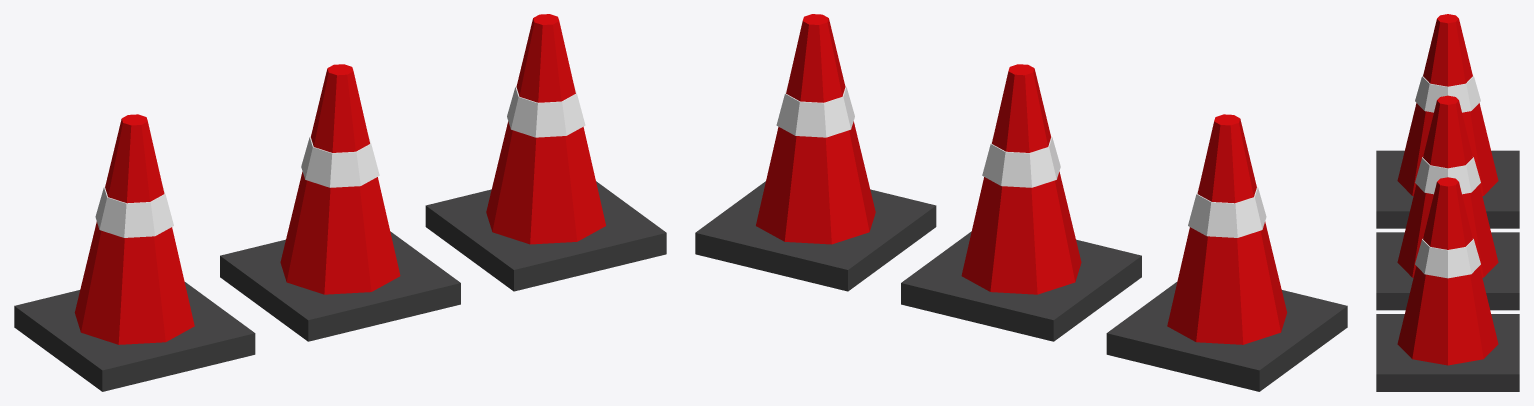
3 views of the same model, side by side, from view 1: azimuth 30°, elevation 25°; view 2: azimuth 150°, elevation 25°; view 3: azimuth 270°, elevation 25° (orthographic). The views are drawn at different scales.
Visible parts, largest first — view 1: Safety cone.001, Safety cone, Safety cone.002, Cone foot.002, Cone foot, Cone foot.001, Cone white band.001, Cone white band.002, Cone white band; view 2: Safety cone.001, Safety cone, Safety cone.002, Cone foot.002, Cone foot, Cone foot.001, Cone white band.001, Cone white band.002, Cone white band; view 3: Safety cone.002, Cone foot.002, Safety cone.001, Safety cone, Cone foot.001, Cone foot, Cone white band.002, Cone white band, Cone white band.001.
Boxes of the visible parts, <box> form: Safety cone.001: <box>280,64,400,294</box>; Safety cone: <box>74,114,194,344</box>; Safety cone.002: <box>486,14,605,244</box>; Cone foot.002: <box>425,181,666,291</box>; Cone foot: <box>14,282,255,391</box>; Cone foot.001: <box>220,231,460,341</box>; Cone white band.001: <box>301,134,379,187</box>; Cone white band.002: <box>507,85,585,137</box>; Cone white band: <box>95,184,173,237</box>; Safety cone.001: <box>961,64,1081,294</box>; Safety cone: <box>1167,114,1287,344</box>; Safety cone.002: <box>756,14,875,244</box>; Cone foot.002: <box>695,181,936,291</box>; Cone foot: <box>1106,282,1347,391</box>; Cone foot.001: <box>901,231,1141,341</box>; Cone white band.001: <box>982,134,1060,187</box>; Cone white band.002: <box>776,85,854,137</box>; Cone white band: <box>1188,184,1266,237</box>; Safety cone.002: <box>1397,177,1498,365</box>; Cone foot.002: <box>1376,314,1519,391</box>; Safety cone.001: <box>1397,95,1498,277</box>; Safety cone: <box>1397,14,1498,196</box>; Cone foot.001: <box>1376,232,1519,310</box>; Cone foot: <box>1376,150,1519,228</box>; Cone white band.002: <box>1415,239,1480,278</box>; Cone white band: <box>1415,75,1480,112</box>; Cone white band.001: <box>1415,157,1480,194</box>.
Bounding box in the file's own units: 96 × 35.95 × 26.
